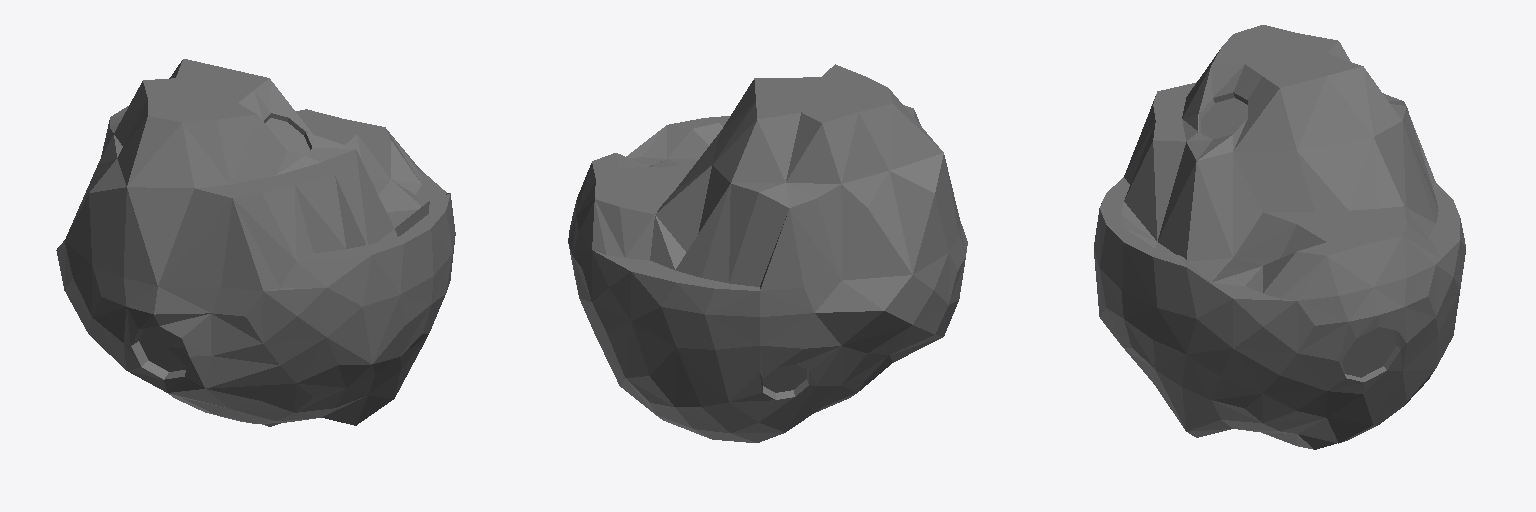
Rendered from Metrorite.obj.
The picture shows the model from 3 angles: view 1: azimuth 30°, elevation 25°; view 2: azimuth 150°, elevation 25°; view 3: azimuth 270°, elevation 25°; orthographic projection.
Visible parts, largest first — view 1: Asteroid; view 2: Asteroid; view 3: Asteroid.
Part boxes in pixels (left/top/right/bottom): Asteroid: left=56, top=59, right=455, bottom=426; Asteroid: left=568, top=64, right=967, bottom=442; Asteroid: left=1094, top=25, right=1465, bottom=449.
Size of the model in its own units: 25.94 by 24.81 by 24.01.